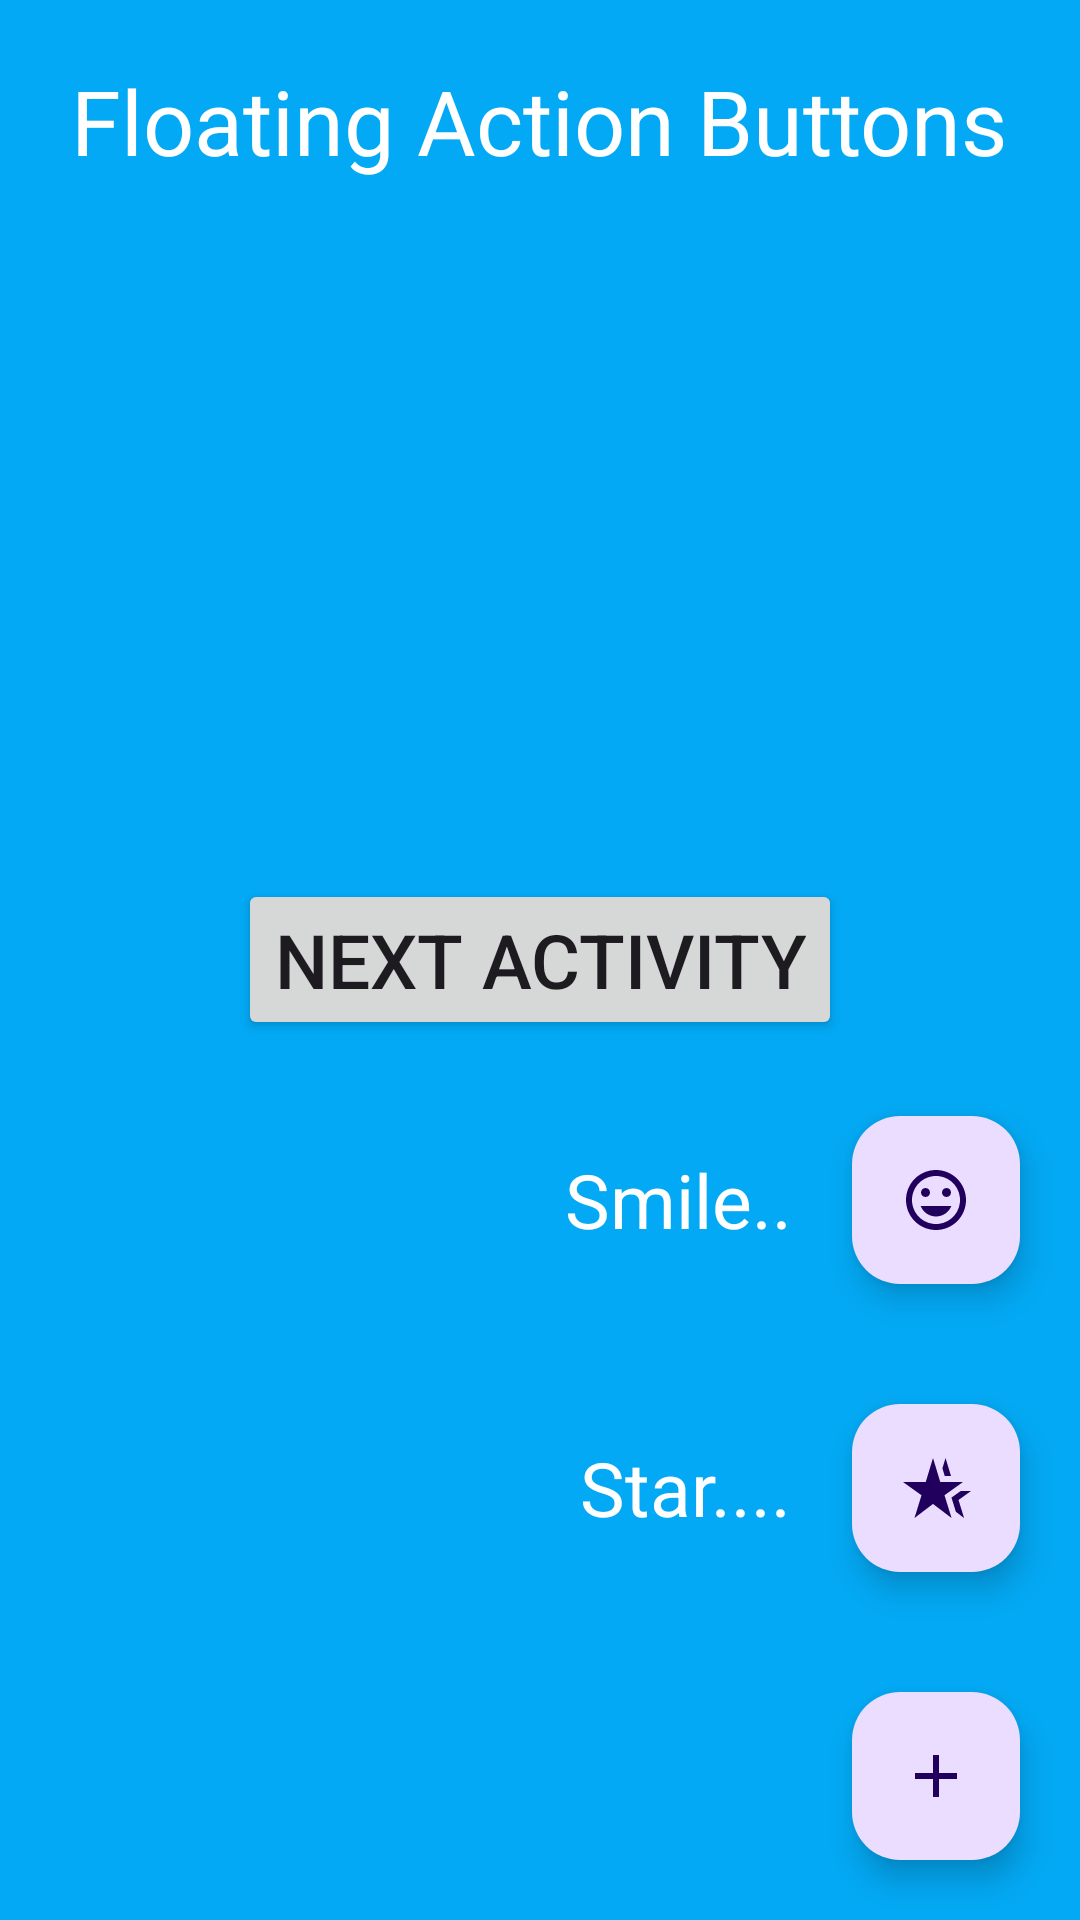

Named icons in this screenshot (1080px x 1920px) and their centers, point (x, y):
add: point (936, 1776)
hotel class: point (936, 1488)
tag faces: point (936, 1200)
